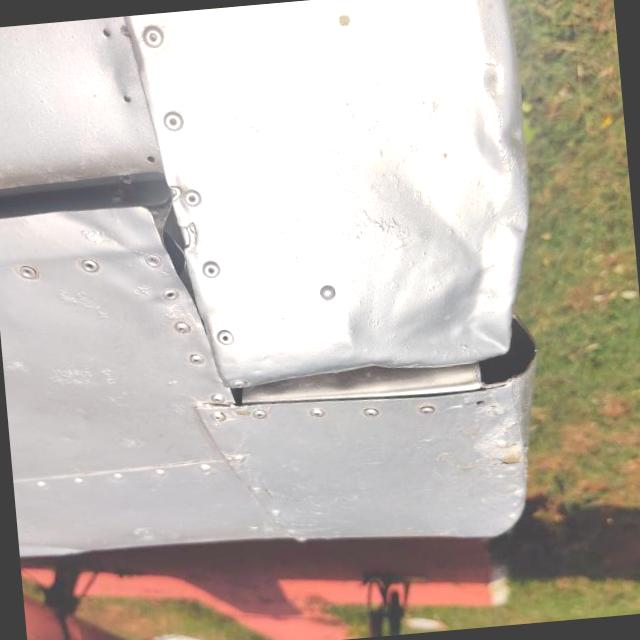dent: (441, 28, 556, 215), (382, 242, 532, 382)
